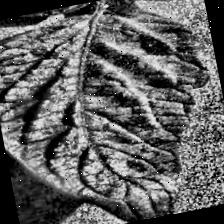spider mites: (0, 4, 224, 224)
